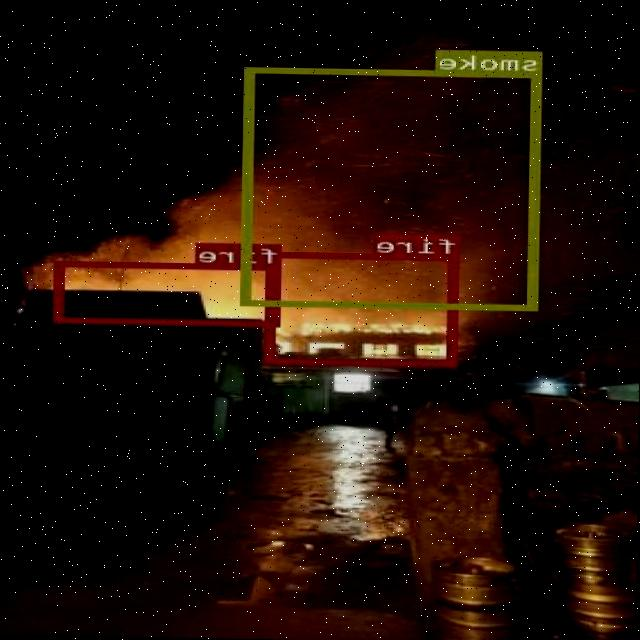fire: (266, 250, 460, 364), (56, 259, 283, 325)
smoke: (242, 66, 544, 310)
